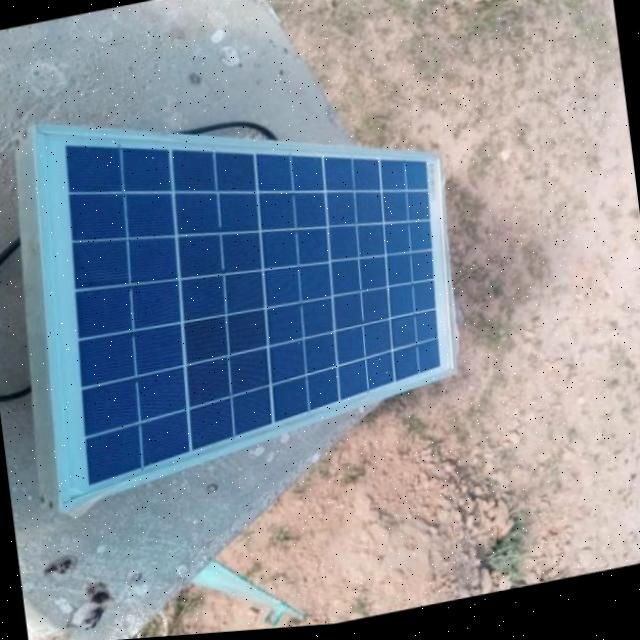Normal Solar Panel: (19, 57, 472, 510)
